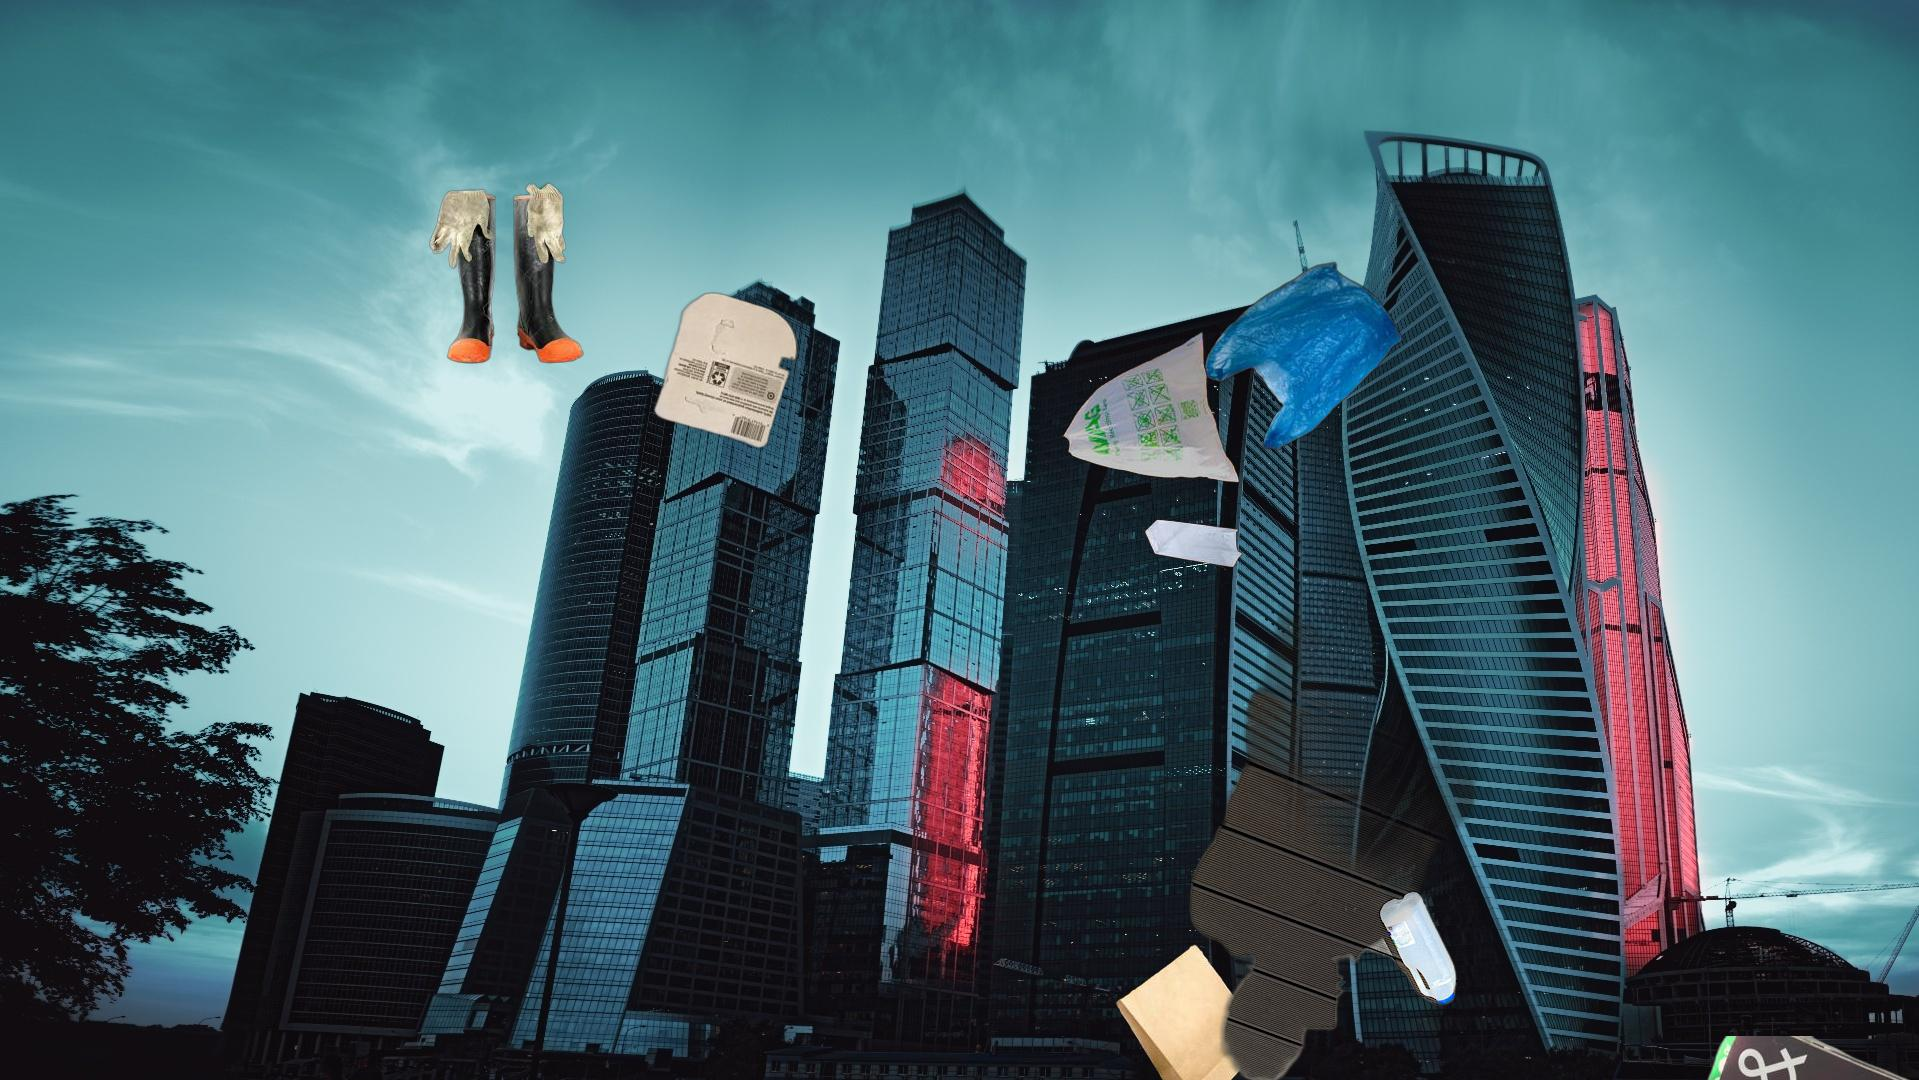paper: (648, 289, 803, 452), (1626, 1036, 1919, 1080)
paper-bag: (1114, 942, 1269, 1080)
plastic-bag: (1007, 328, 1246, 570), (1205, 258, 1406, 454)
plastic-bottles: (1184, 534, 1549, 1080)
shoes: (427, 178, 587, 367)
